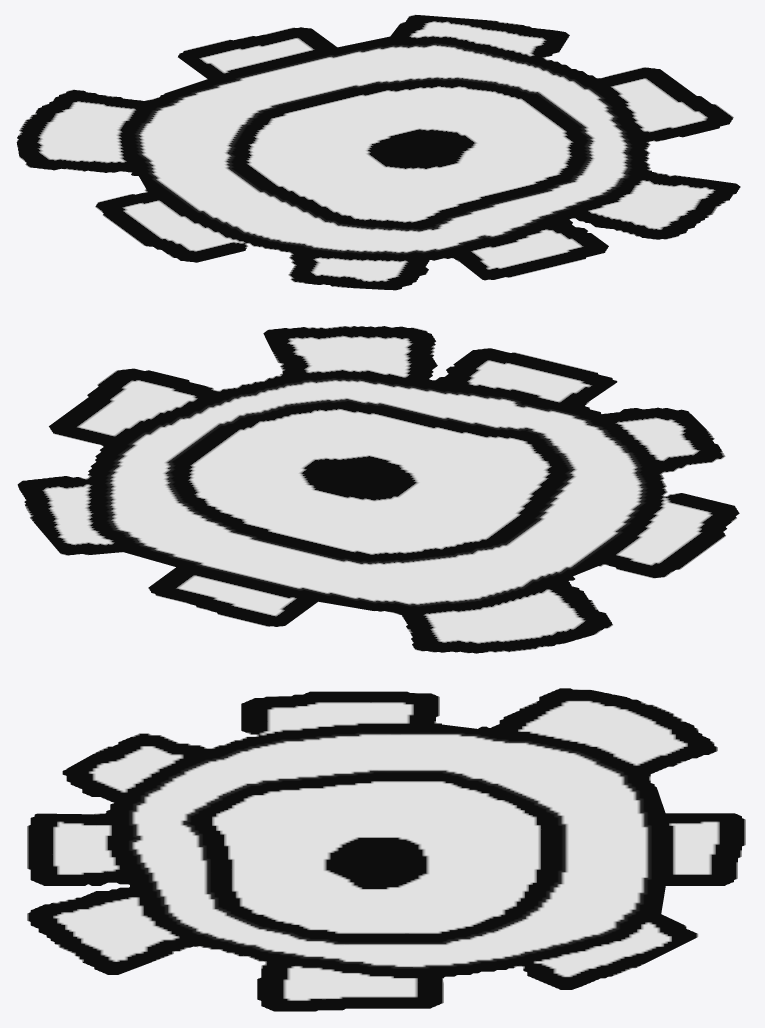
File: haguruma.FBX
3 views of the same model, one above another, from view 1: azimuth 30°, elevation 25°; view 2: azimuth 150°, elevation 25°; view 3: azimuth 270°, elevation 25° (orthographic). The views are drawn at different scales.
Parts seen in each view (by area): view 1: Plane001; view 2: Plane001; view 3: Plane001.
Part boxes in pixels (x1,y1,x2,y2): Plane001: (16, 14, 740, 290); Plane001: (17, 326, 739, 653); Plane001: (27, 688, 745, 1011).
Size of the model in its own units: 76.87 by 4.44e-15 by 72.46.
